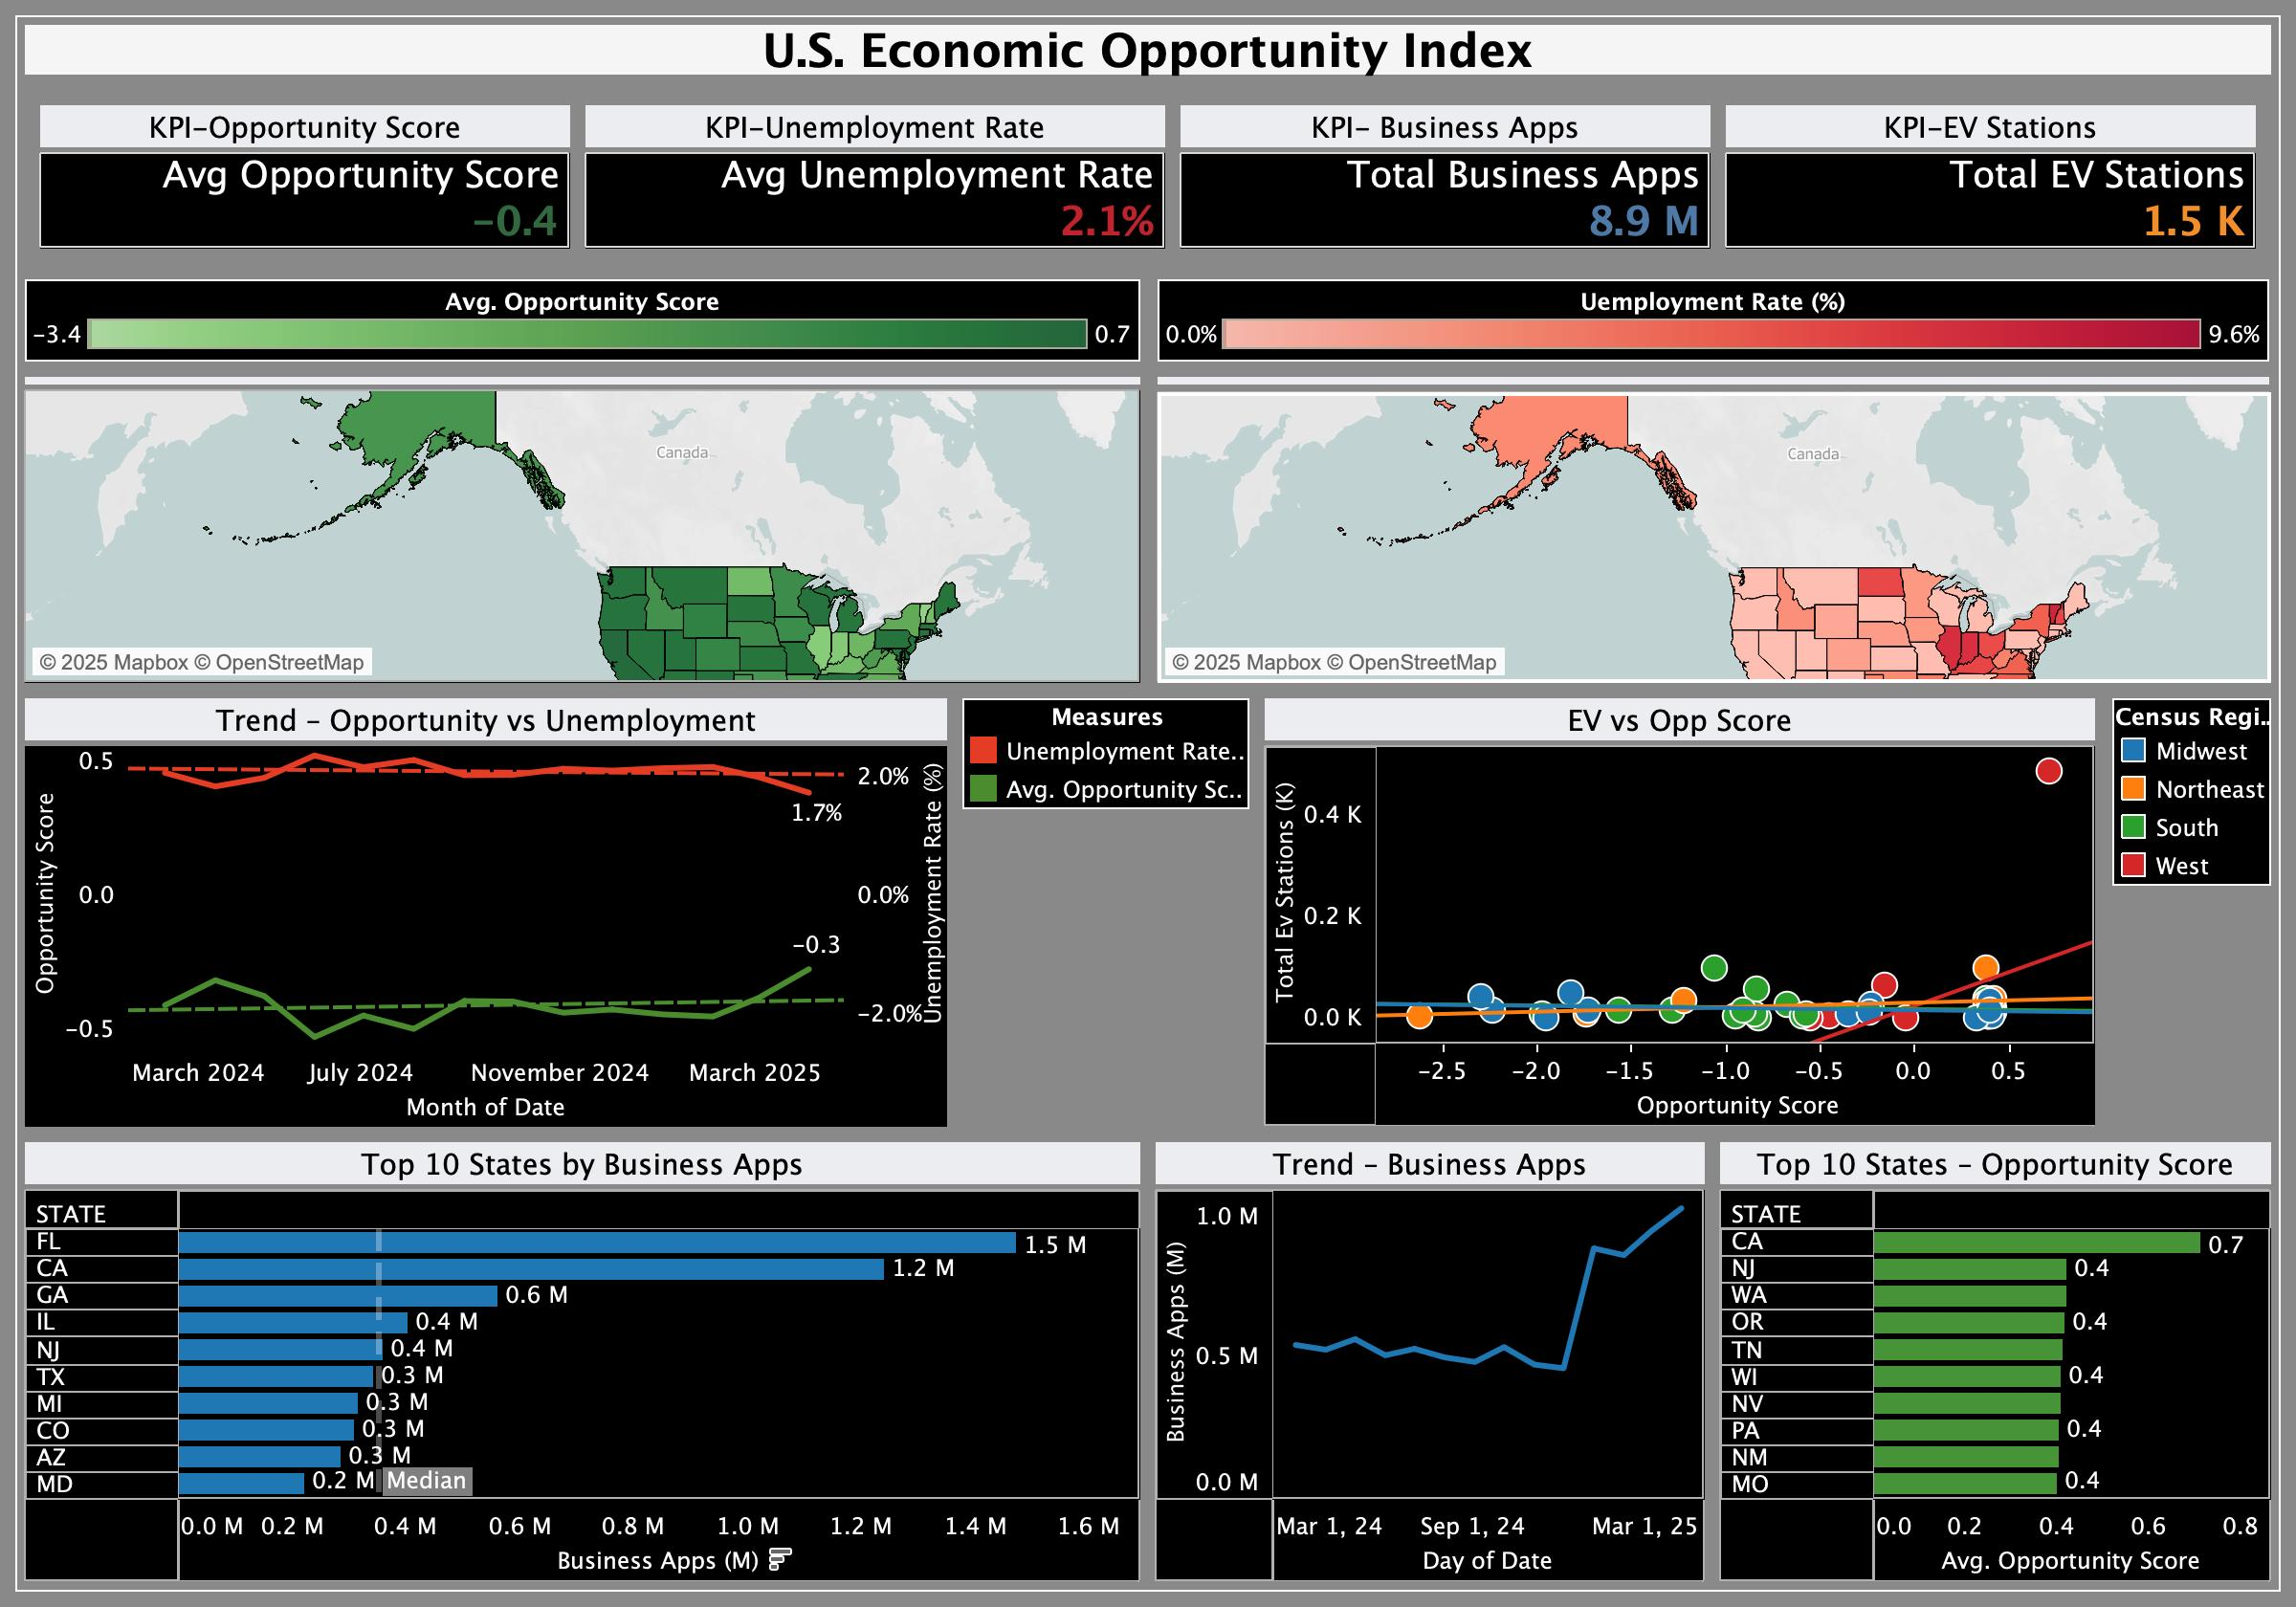

The dashboard page shown, as its layout file describes it:
{"tool":"tableau","page":{"name":"Dashboard 1","canvas":[1200,840],"ordinal":0},"visuals":[{"type":"text","box":[9,9,1182,33.5]},{"type":"worksheet","title":"KPI-Opportunity Score","mark":"Automatic","box":[17,50.5,285,83.5]},{"type":"worksheet","title":"KPI-Unemployment Rate","mark":"Automatic","box":[302,50.5,311,83.5]},{"type":"worksheet","title":"KPI- Business Apps","mark":"Automatic","box":[613,50.5,285,83.5]},{"type":"worksheet","title":"KPI-EV Stations ","mark":"Automatic","box":[898,50.5,285,83.5]},{"type":"legend","title":"Map - Opportunity Score","param":"[federated.1v847hw0jupmiz1ax4sew1barrrd].[avg:OPPORTUNITY_SCORE:qk]","box":[9,142,591,51]},{"type":"legend","title":"Map – Unemployment Rate","param":"[federated.1v847hw0jupmiz1ax4sew1barrrd].[avg:Calculation_3881891819006783508:qk","box":[605,146,581,43]},{"type":"worksheet","title":"Map - Opportunity Score","mark":"Multipolygon","box":[9,193,591.5,179]},{"type":"worksheet","title":"Map – Unemployment Rate","mark":"Multipolygon","box":[600.5,193,590.5,179]},{"type":"worksheet","title":"Trend – Opportunity vs Unemployment","mark":"Automatic","rows":["OPPORTUNITY_SCORE","Calculation_3881891819006783508"],"cols":["DATE"],"box":[9,372,490.5,220.9]},{"type":"legend","title":"Trend – Opportunity vs Unemployment","param":"[federated.1v847hw0jupmiz1ax4sew1barrrd].[:Measure Names]","box":[499.5,372,158,220.9]},{"type":"worksheet","title":"EV vs Opp Score","mark":"Circle","rows":["Calculation_3881891819011039254"],"cols":["OPPORTUNITY_SCORE"],"box":[657.5,372,442.5,220.9]},{"type":"legend","title":"EV vs Opp Score","param":"[federated.1v847hw0jupmiz1ax4sew1barrrd].[none:Calculation_3881891822925172780:n","box":[1100,372,91,220.9]},{"type":"worksheet","title":"Top 10 States by Business Apps","mark":"Automatic","rows":["STATE"],"cols":["Calculation_3881891819009986581"],"box":[9,592.9,591,238.1]},{"type":"worksheet","title":"Trend – Business Apps","mark":"Line","rows":["Calculation_3881891819009986581"],"cols":["DATE"],"box":[600,592.9,295.5,238.1]},{"type":"worksheet","title":"Top 10 States – Opportunity Score","mark":"Bar","rows":["STATE"],"cols":["OPPORTUNITY_SCORE"],"box":[895.5,592.9,295.5,238.1]}]}

Visuals, with their boxes in screenshot pixels (x1, y1, x2, y2), scaled from the page's 1200x840 canvas onto the 2296x1607 screenshot:
text: {"left": 17, "top": 17, "right": 2279, "bottom": 81}
"KPI-Opportunity Score" worksheet: {"left": 33, "top": 97, "right": 578, "bottom": 256}
"KPI-Unemployment Rate" worksheet: {"left": 578, "top": 97, "right": 1173, "bottom": 256}
"KPI- Business Apps" worksheet: {"left": 1173, "top": 97, "right": 1718, "bottom": 256}
"KPI-EV Stations " worksheet: {"left": 1718, "top": 97, "right": 2263, "bottom": 256}
"Map - Opportunity Score" legend: {"left": 17, "top": 272, "right": 1148, "bottom": 369}
"Map – Unemployment Rate" legend: {"left": 1158, "top": 279, "right": 2269, "bottom": 362}
"Map - Opportunity Score" worksheet (Multipolygon marks): {"left": 17, "top": 369, "right": 1149, "bottom": 712}
"Map – Unemployment Rate" worksheet (Multipolygon marks): {"left": 1149, "top": 369, "right": 2279, "bottom": 712}
"Trend – Opportunity vs Unemployment" worksheet: {"left": 17, "top": 712, "right": 956, "bottom": 1134}
"Trend – Opportunity vs Unemployment" legend: {"left": 956, "top": 712, "right": 1258, "bottom": 1134}
"EV vs Opp Score" worksheet (Circle marks): {"left": 1258, "top": 712, "right": 2105, "bottom": 1134}
"EV vs Opp Score" legend: {"left": 2105, "top": 712, "right": 2279, "bottom": 1134}
"Top 10 States by Business Apps" worksheet: {"left": 17, "top": 1134, "right": 1148, "bottom": 1590}
"Trend – Business Apps" worksheet (Line marks): {"left": 1148, "top": 1134, "right": 1713, "bottom": 1590}
"Top 10 States – Opportunity Score" worksheet (Bar marks): {"left": 1713, "top": 1134, "right": 2279, "bottom": 1590}
